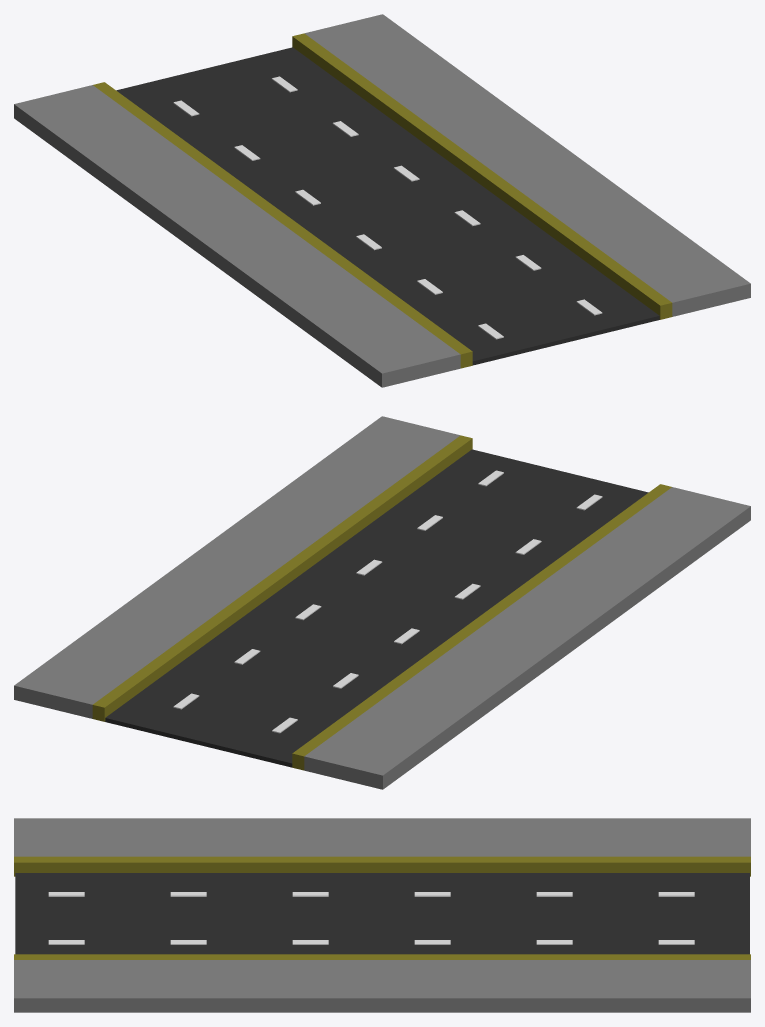
The model's file is road sidewalk.fbx.
3 views of the same model, one above another, from view 1: azimuth 30°, elevation 25°; view 2: azimuth 150°, elevation 25°; view 3: azimuth 270°, elevation 25° (orthographic).
Visible parts, largest first — view 1: Cube.025; view 2: Cube.025; view 3: Cube.025.
Part boxes in pixels (bbox=[...]): Cube.025: bbox=[14, 14, 750, 387]; Cube.025: bbox=[14, 416, 750, 789]; Cube.025: bbox=[14, 818, 750, 1012].
Bounding box in the file's own units: 928 × 1604 × 35.43.
